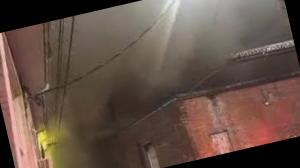Smoke: (86, 0, 299, 116), (25, 33, 141, 168)
